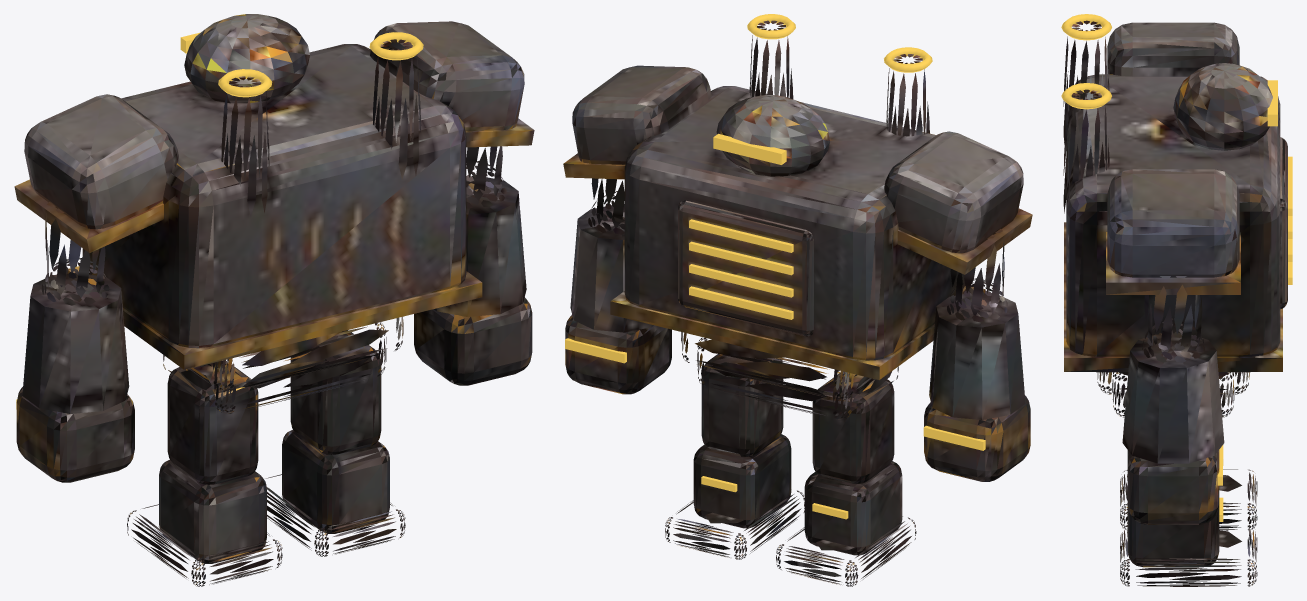
File: trojan_goliath.glb
3 views of the same model, side by side, from view 1: azimuth 30°, elevation 25°; view 2: azimuth 150°, elevation 25°; view 3: azimuth 270°, elevation 25° (orthographic). The views are drawn at different scales.
Visible parts, largest first — view 1: hull.004, plate.005, hull.003, hazard, dark.006, hull.001, plate.001, plate, plate.002, plate.004, plate.003, hull (+9 smaller); view 2: hull.004, plate.005, hull.003, hazard, hull.001, dark.006, plate, plate.001, plate.002, hull, glow.005, plate.004 (+11 smaller); view 3: hull.004, plate.005, hull.002, plate.002, plate.003, hazard, dark.006, plate, dark, glow.005, dark.003, dark.001 (+3 smaller).
Part boxes in pixels (x1,y1,x2,y2): hull.004: (82,44,466,348); plate.005: (24,21,524,229); hull.003: (22,273,129,413); hazard: (14,118,534,369); dark.006: (189,39,421,392); hull.001: (167,361,258,484); plate.001: (159,459,266,563); plate: (282,429,389,533); plate.002: (184,14,309,103); plate.004: (16,387,134,482); plate.003: (414,297,532,385); hull: (290,330,381,454); hull.004: (624,86,971,360); plate.005: (572,65,1023,336); hull.003: (929,293,1025,419); hazard: (563,153,1032,380); hull.001: (812,371,894,483); dark.006: (681,20,929,400); plate: (693,434,791,528); plate.001: (804,461,902,555); plate.002: (716,95,829,176); hull: (701,354,783,456); glow.005: (689,14,932,319); plate.004: (924,395,1030,481); hull.004: (1066,74,1280,372); plate.005: (1107,22,1287,309); hull.002: (1122,333,1224,463); plate.002: (1173,63,1272,150); plate.003: (1127,450,1219,524); hazard: (1064,222,1282,371); dark.006: (1063,20,1249,394); plate: (1127,505,1219,567); dark: (1120,525,1257,586); glow.005: (1061,14,1292,284); dark.003: (1144,276,1202,356); dark.001: (1120,469,1257,530).
Size of the model in its own units: 1.03 by 1.05 by 0.454.
Materials: 5 (4 with a texture image).
